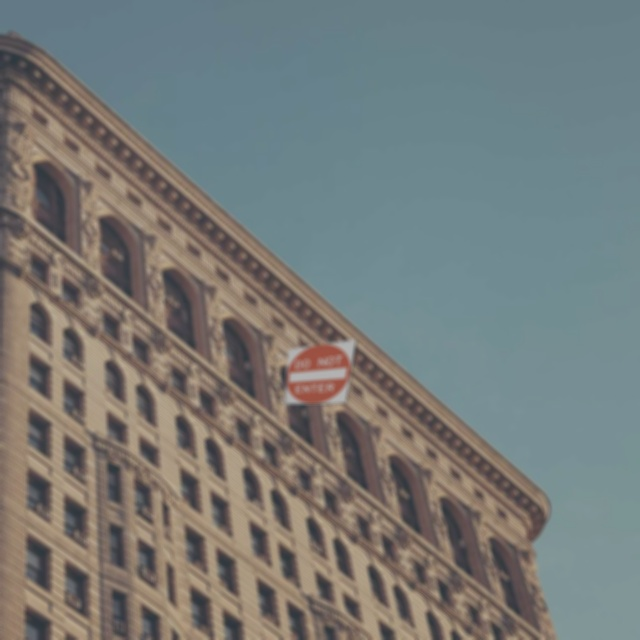DO_NOT_ENTER: (284, 338, 357, 405)
